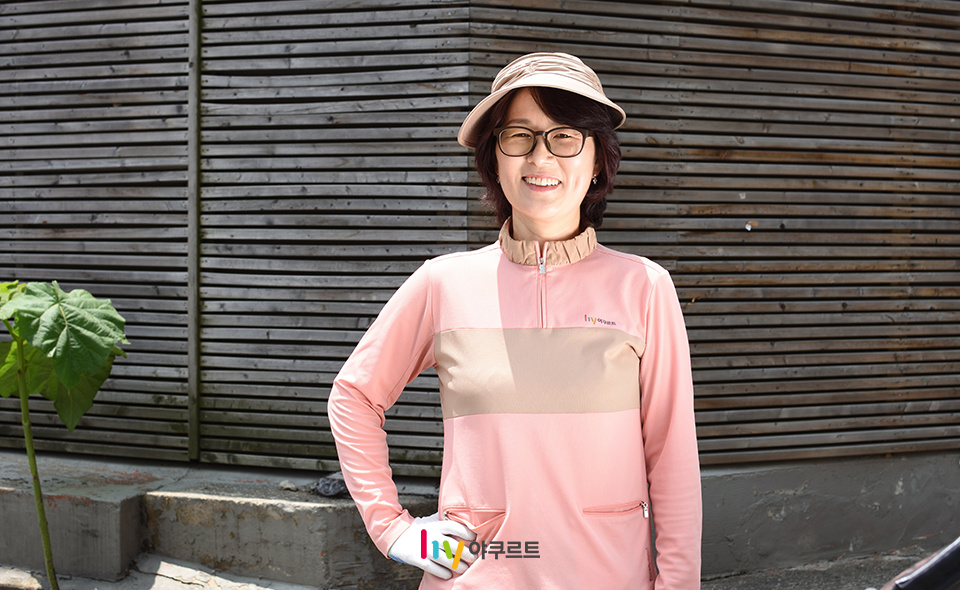Yakurut: (372, 64, 698, 528)
